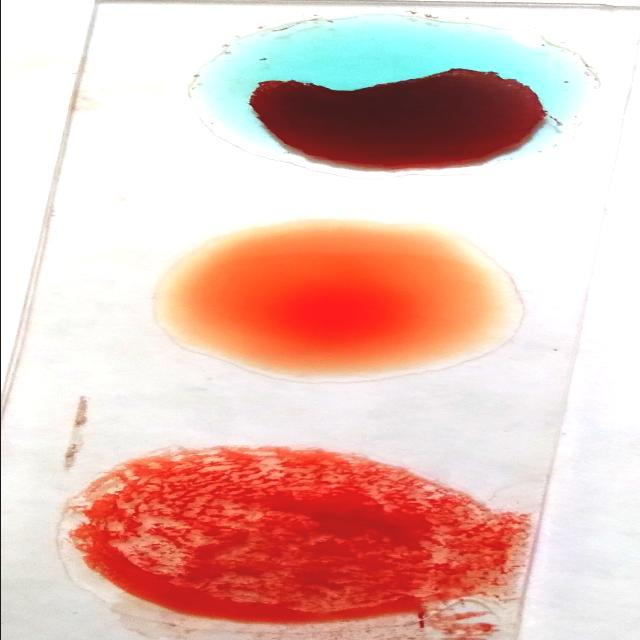A: (201, 15, 587, 177)
D: (62, 450, 492, 620)
